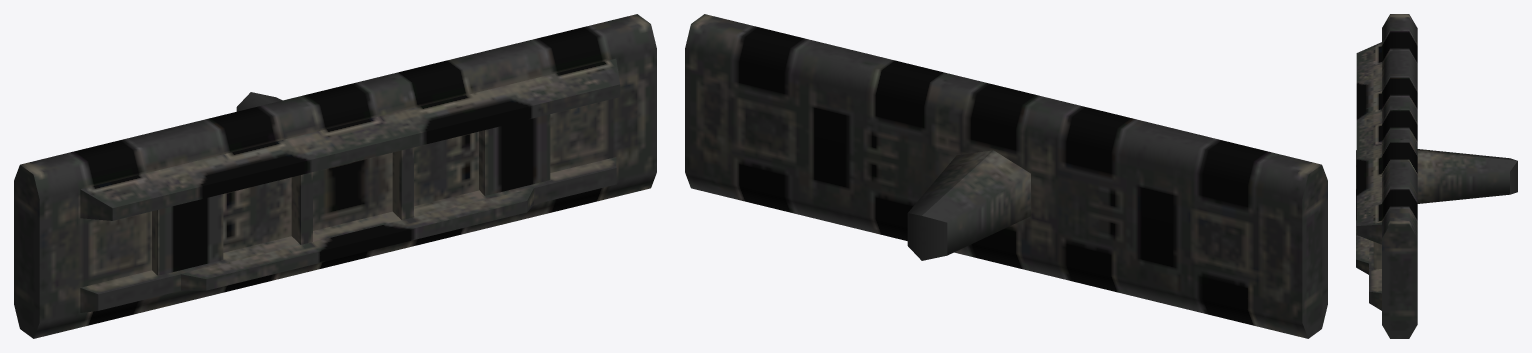
The picture shows the model from 3 angles, left to right: view 1: azimuth 30°, elevation 25°; view 2: azimuth 150°, elevation 25°; view 3: azimuth 270°, elevation 25°; orthographic projection. The views are drawn at different scales.
Parts seen in each view (by area): view 1: set_0_group_0; view 2: set_0_group_0; view 3: set_0_group_0.
Boxes of the visible parts, x1=… form: set_0_group_0: x1=14, y1=14, x2=656, y2=338; set_0_group_0: x1=685, y1=14, x2=1327, y2=338; set_0_group_0: x1=1356, y1=14, x2=1517, y2=338.
Bounding box in the file's own units: 0.6 × 0.1526 × 0.195.
1 material, 1 textured.
